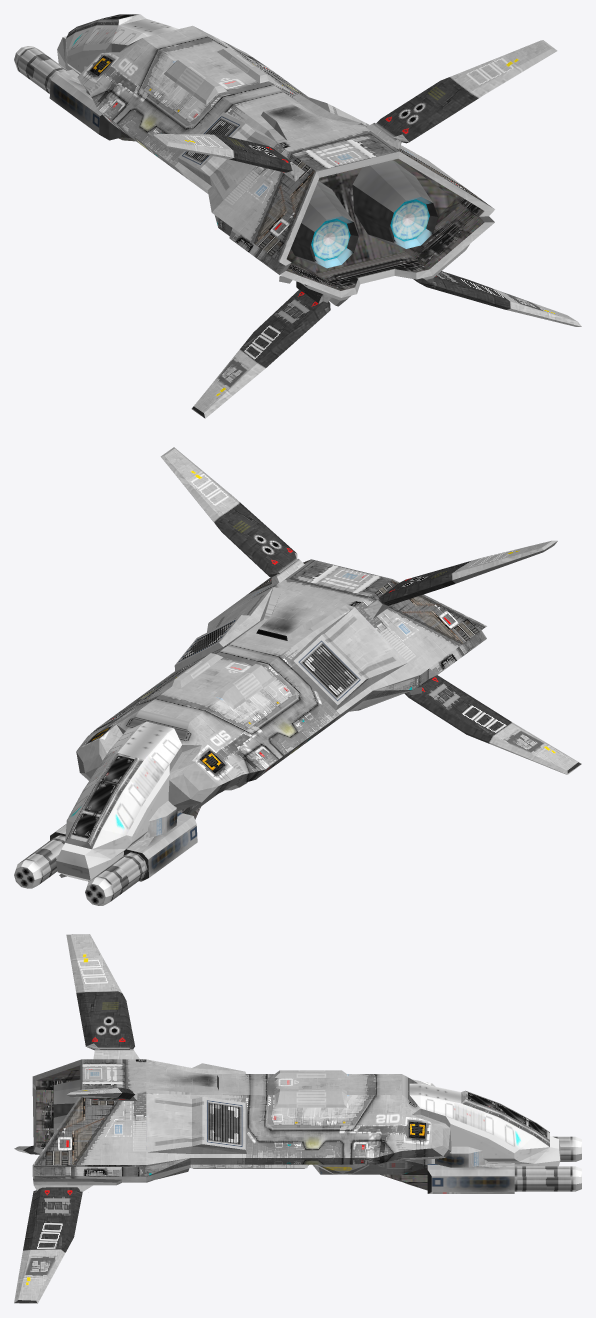
The picture shows the model from 3 angles, top to bottom: view 1: azimuth 30°, elevation 25°; view 2: azimuth 150°, elevation 25°; view 3: azimuth 270°, elevation 25°; orthographic projection. The views are drawn at different scales.
Parts seen in each view (by area): view 1: ______24, ______48, ______46, Object01, ______49, ______50, ______05, ______32, ______40, ______53, ______52; view 2: ______24, ______46, ______05, Object01, ______50, ______49, ______32, ______53, ______52, ______14, ______47; view 3: ______24, ______46, ______05, Object01, ______40, ______32, ______08, ______14, ______48, ______47, ______49, ______52.
Part boxes in pixels (x1,y1,x2,y2): ______24: (77,26,494,297); ______48: (291,160,437,268); ______46: (66,14,469,306); Object01: (143,25,399,167); ______49: (375,40,557,143); ______50: (191,289,330,418); ______05: (57,18,178,74); ______32: (153,134,292,172); ______40: (413,271,581,326); ______53: (49,69,121,140); ______52: (14,46,67,93); ______24: (76,559,486,814); ______46: (59,587,421,881); ______05: (56,721,181,881); Object01: (140,559,387,721); ______50: (404,675,581,774); ______49: (160,447,297,577); ______32: (379,540,557,605); ______53: (123,812,197,881); ______52: (85,852,147,905); ______14: (14,835,65,888); ______47: (140,800,177,840); ______24: (32,1059,451,1182); ______46: (33,1059,549,1191); ______05: (402,1083,560,1174); Object01: (83,1059,401,1094); ______40: (14,1187,82,1303); ______32: (66,934,134,1050); ______08: (427,1163,514,1193); ______14: (514,1166,581,1191); ______48: (53,1079,80,1133); ______47: (435,1146,489,1167); ______49: (66,1087,134,1099); ______52: (553,1136,581,1161).
Bounding box in the file's own units: 444 × 276 × 665.
